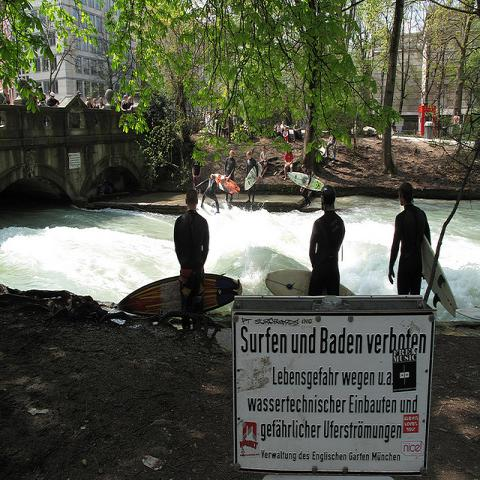car: (362, 119, 382, 140)
